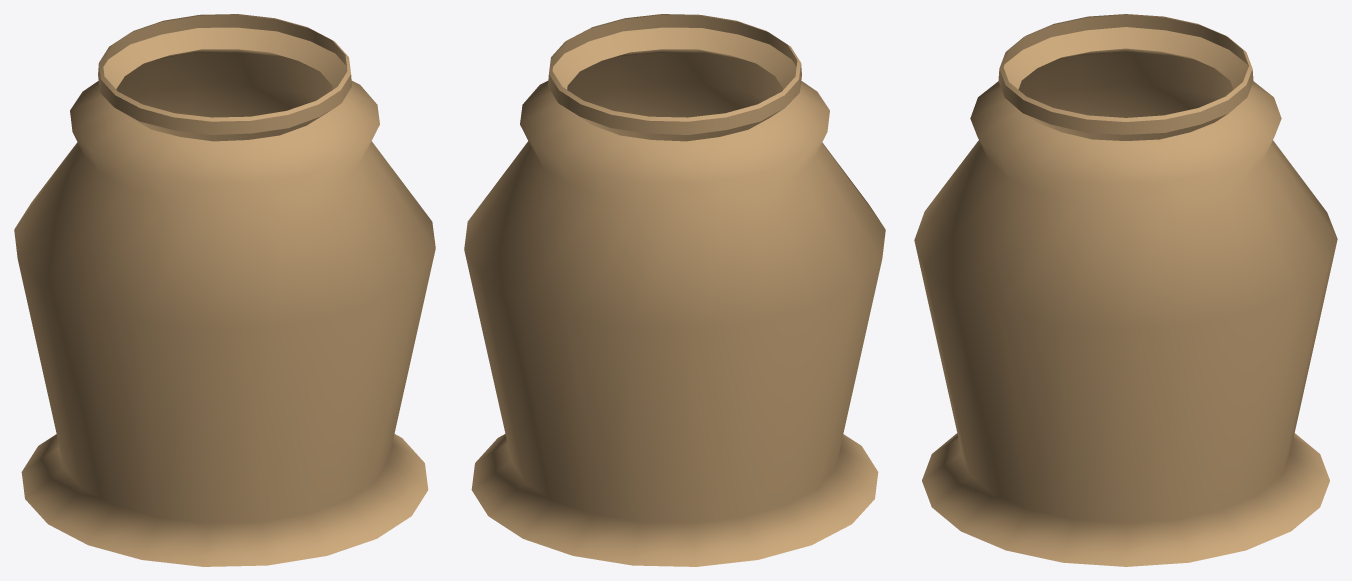
File: pottery03.fbx
The picture shows the model from 3 angles, left to right: view 1: azimuth 30°, elevation 25°; view 2: azimuth 150°, elevation 25°; view 3: azimuth 270°, elevation 25°; orthographic projection.
Parts seen in each view (by area): view 1: pCylinder2; view 2: pCylinder2; view 3: pCylinder2.
Part boxes in pixels (x1=…): pCylinder2: x1=14, y1=14, x2=435, y2=566; pCylinder2: x1=464, y1=14, x2=885, y2=566; pCylinder2: x1=914, y1=14, x2=1337, y2=566.
Bounding box in the file's own units: 1.86 × 2.01 × 1.86.
